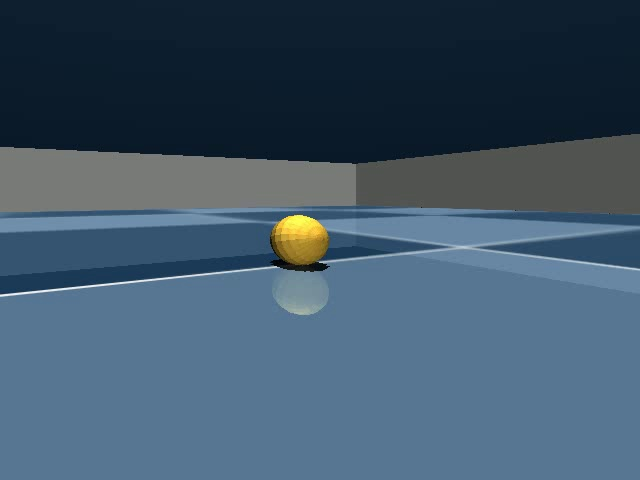lemon: (263, 209, 339, 275)
